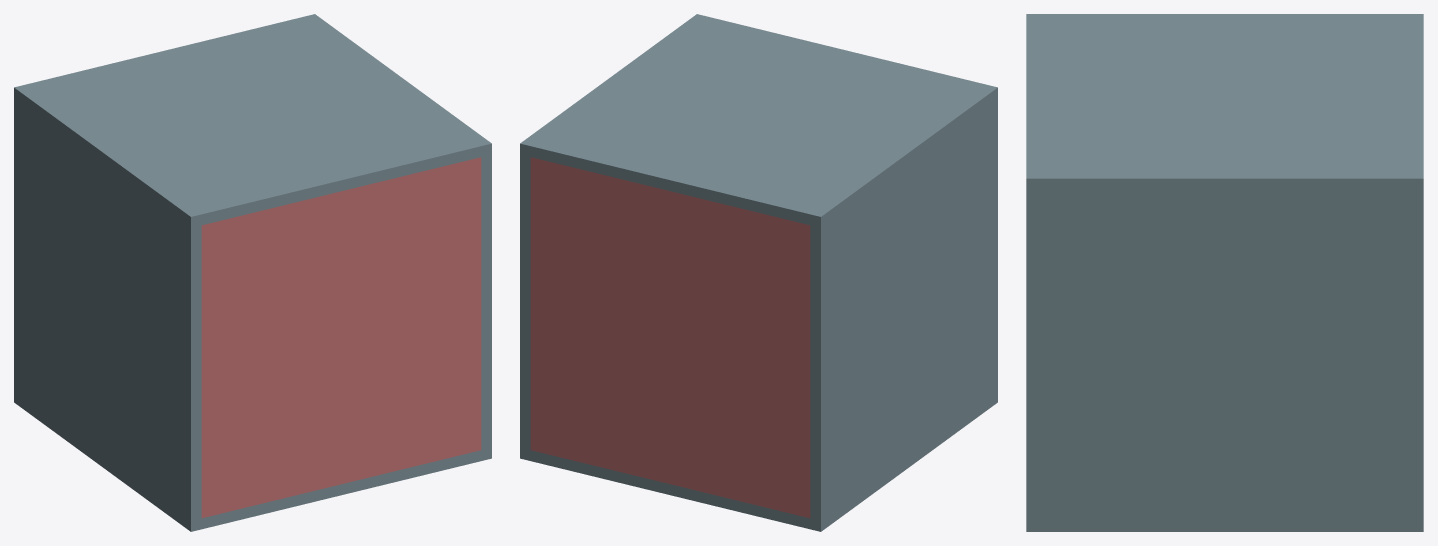
The model's file is step_02.glb.
The picture shows the model from 3 angles, left to right: view 1: azimuth 30°, elevation 25°; view 2: azimuth 150°, elevation 25°; view 3: azimuth 270°, elevation 25°; orthographic projection. The views are drawn at different scales.
Visible parts, largest first — view 1: part__paddle culvert, removed__paddle culvert; view 2: part__paddle culvert, removed__paddle culvert; view 3: part__paddle culvert.
Boxes of the visible parts, left/top/right/bottom form: part__paddle culvert: left=14, top=14, right=491, bottom=531; removed__paddle culvert: left=201, top=157, right=481, bottom=518; part__paddle culvert: left=520, top=14, right=997, bottom=531; removed__paddle culvert: left=530, top=157, right=810, bottom=518; part__paddle culvert: left=1026, top=14, right=1423, bottom=531.
Bounding box in the file's own units: 430 × 430 × 438.
